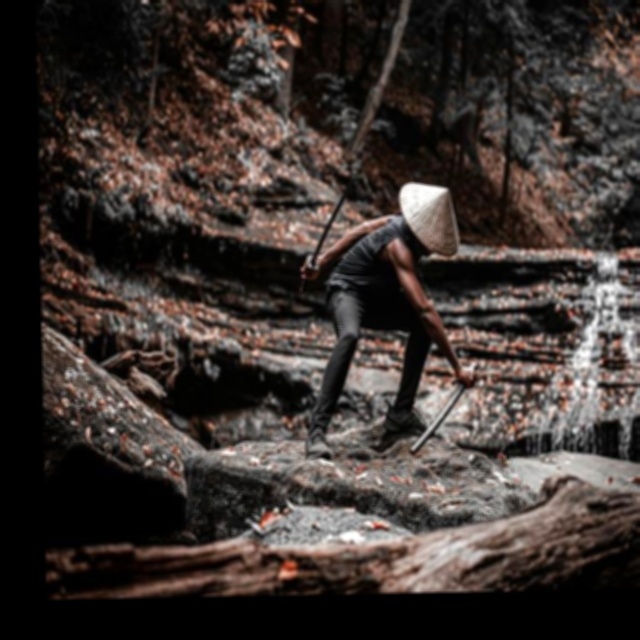Sharp-Object: (408, 360, 481, 456)
